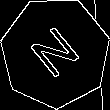N_SE: (25, 21, 86, 84)
